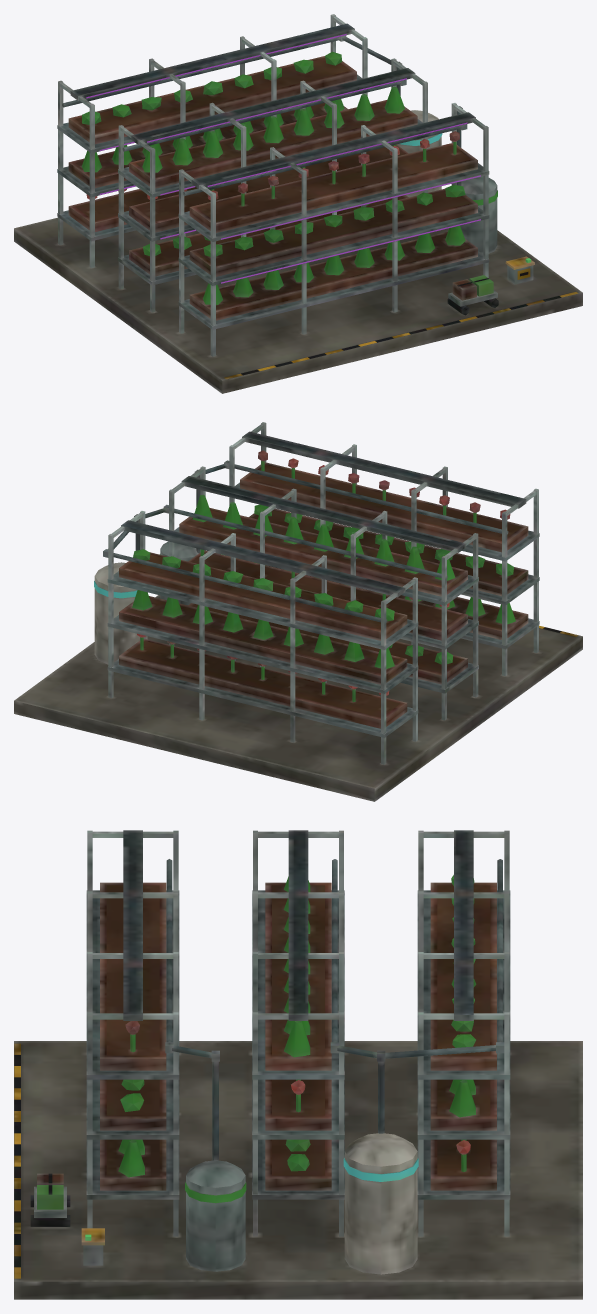
File: greenhouse_farm.glb
3 views of the same model, one above another, from view 1: azimuth 30°, elevation 25°; view 2: azimuth 150°, elevation 25°; view 3: azimuth 270°, elevation 25° (orthographic). The views are drawn at different scales.
Parts seen in each view (by area): view 1: te_greenhouse_farm; view 2: te_greenhouse_farm; view 3: te_greenhouse_farm.
Part boxes in pixels (<box>): te_greenhouse_farm: <box>14,14,582,393</box>; te_greenhouse_farm: <box>14,422,582,801</box>; te_greenhouse_farm: <box>14,830,582,1299</box>.
Size of the model in its own units: 1.72 by 0.8 by 1.72.
Materials: 1 (1 with a texture image).
